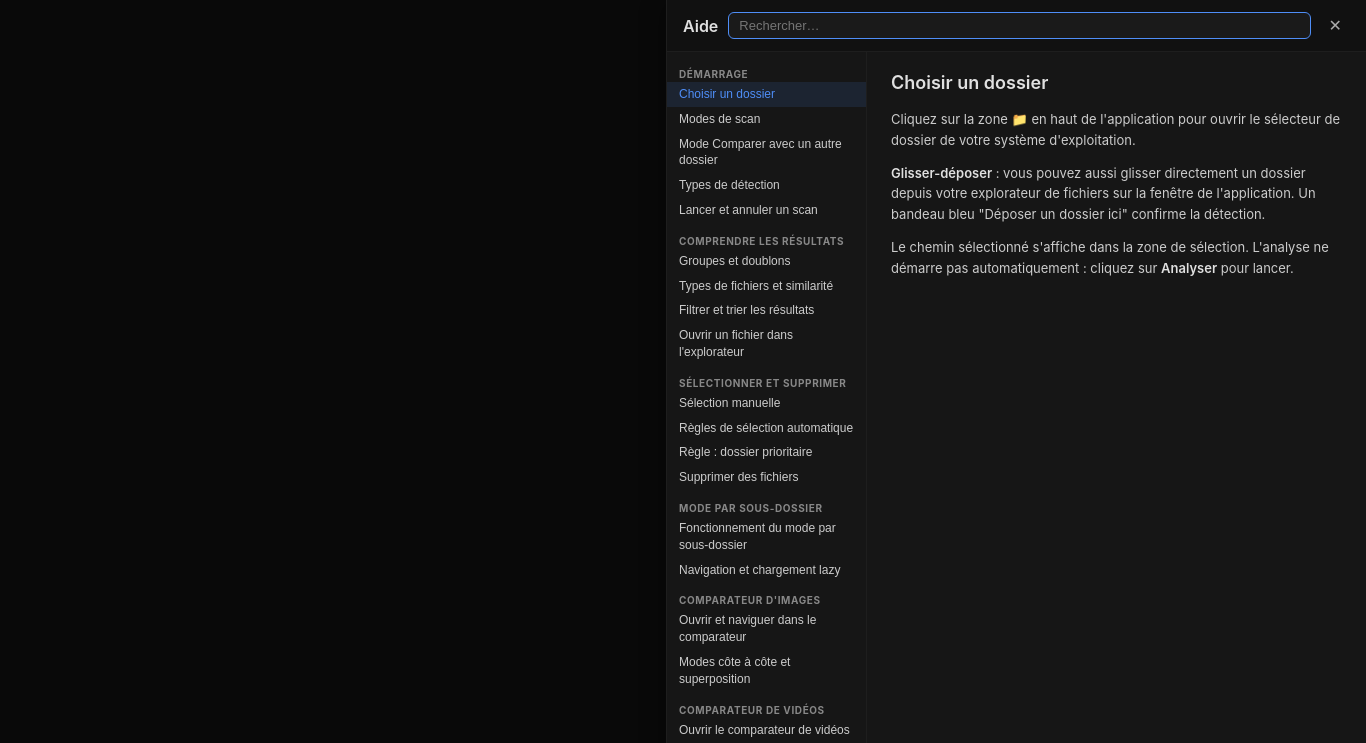
Test: HelpPanel › affiche 'Aucun résultat' si la recherche ne correspond à rien
Type "xqzwmvpqrst" into the search field with test id "help-search". click: {"x": 1019, "y": 26}
box: [728,12,1311,39]
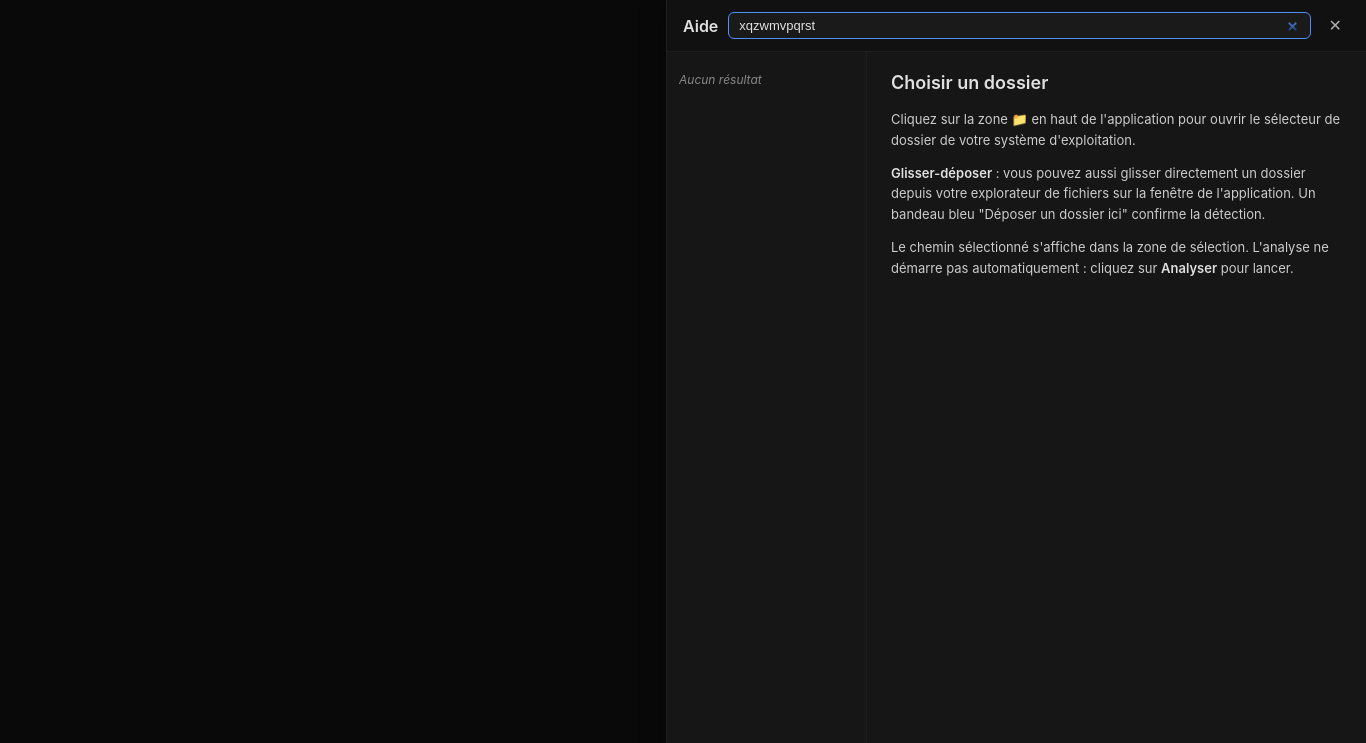
Expected: the list item "Aucun résultat" is shown, [679,72,762,87]
